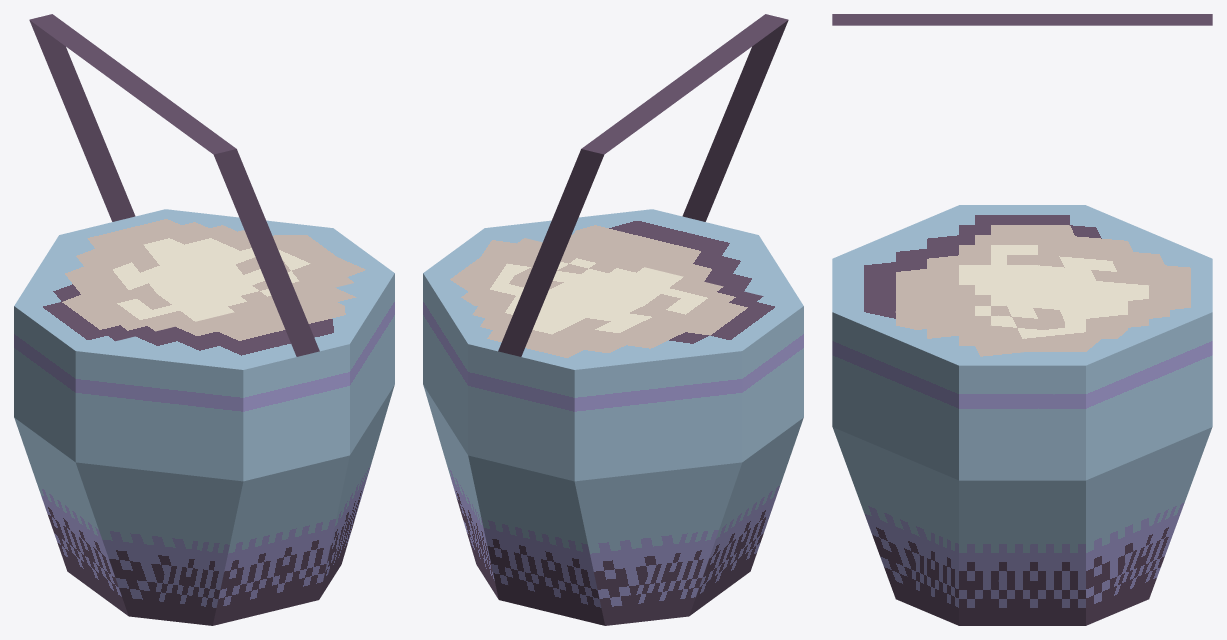
Rendered from ciment.gltf.
3 views of the same model, side by side, from view 1: azimuth 30°, elevation 25°; view 2: azimuth 150°, elevation 25°; view 3: azimuth 270°, elevation 25° (orthographic). The views are drawn at different scales.
Bounding box in the file's own units: 1.5 × 2.25 × 1.5.
Materials: 1 (1 with a texture image).
